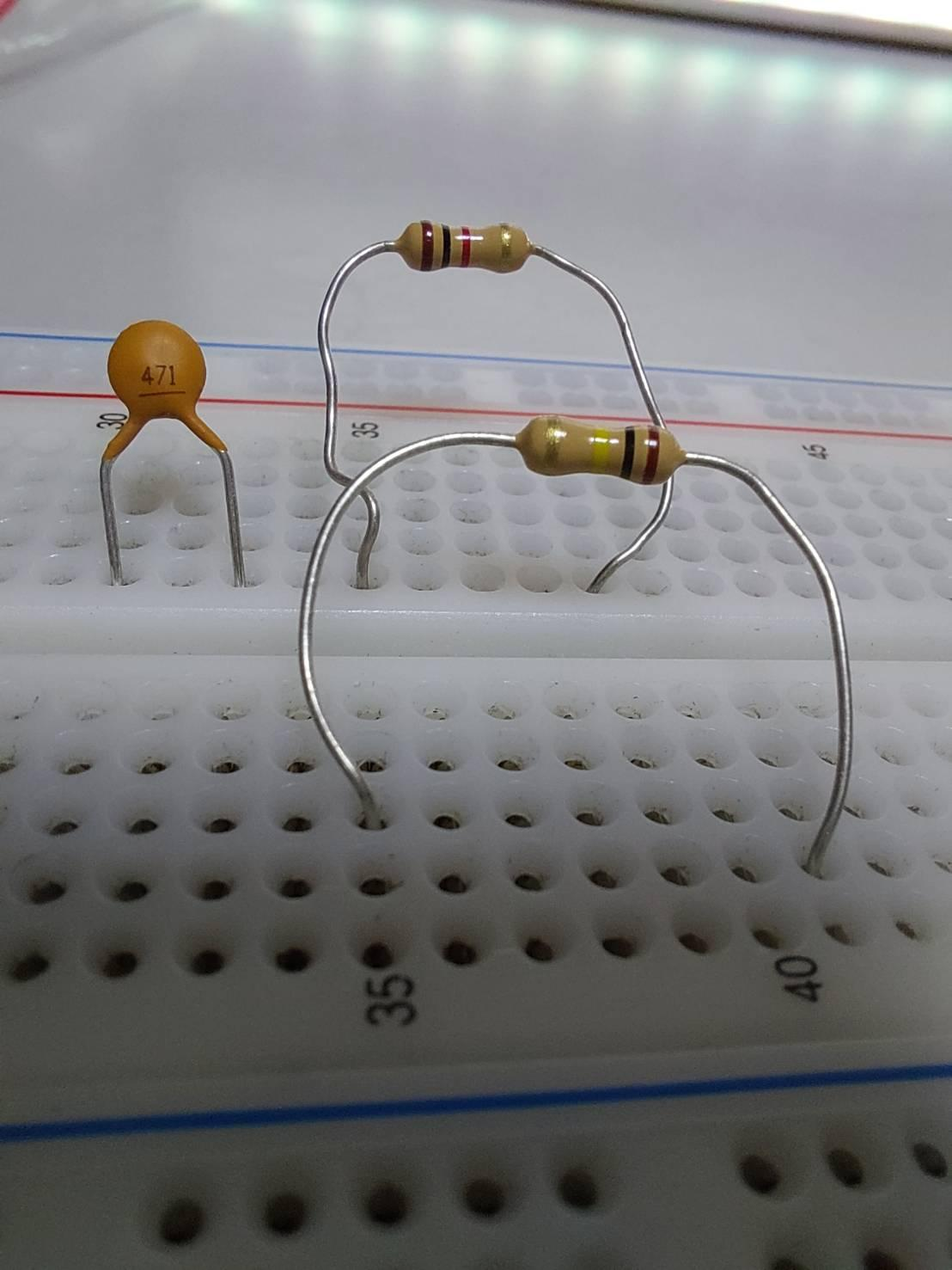resistor: (518, 411, 681, 486), (398, 221, 535, 278)
